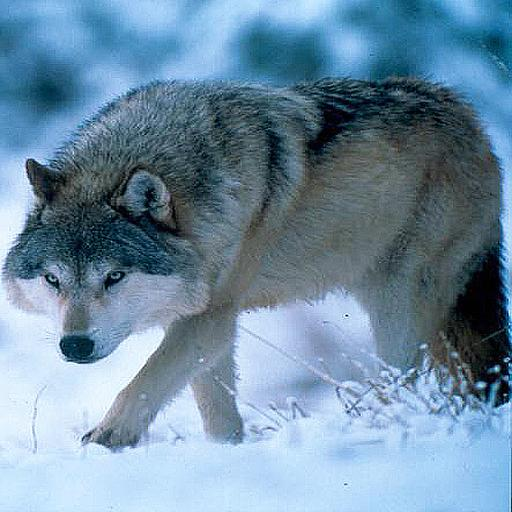Wolf: (6, 72, 512, 451)
